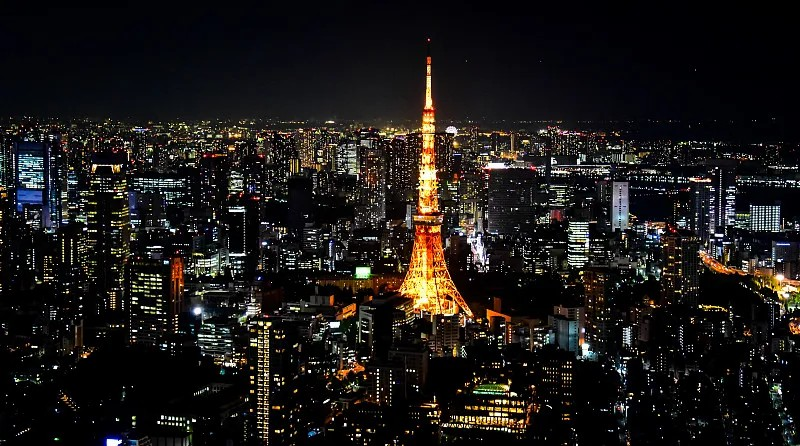Tokyo: (400, 35, 475, 319)
